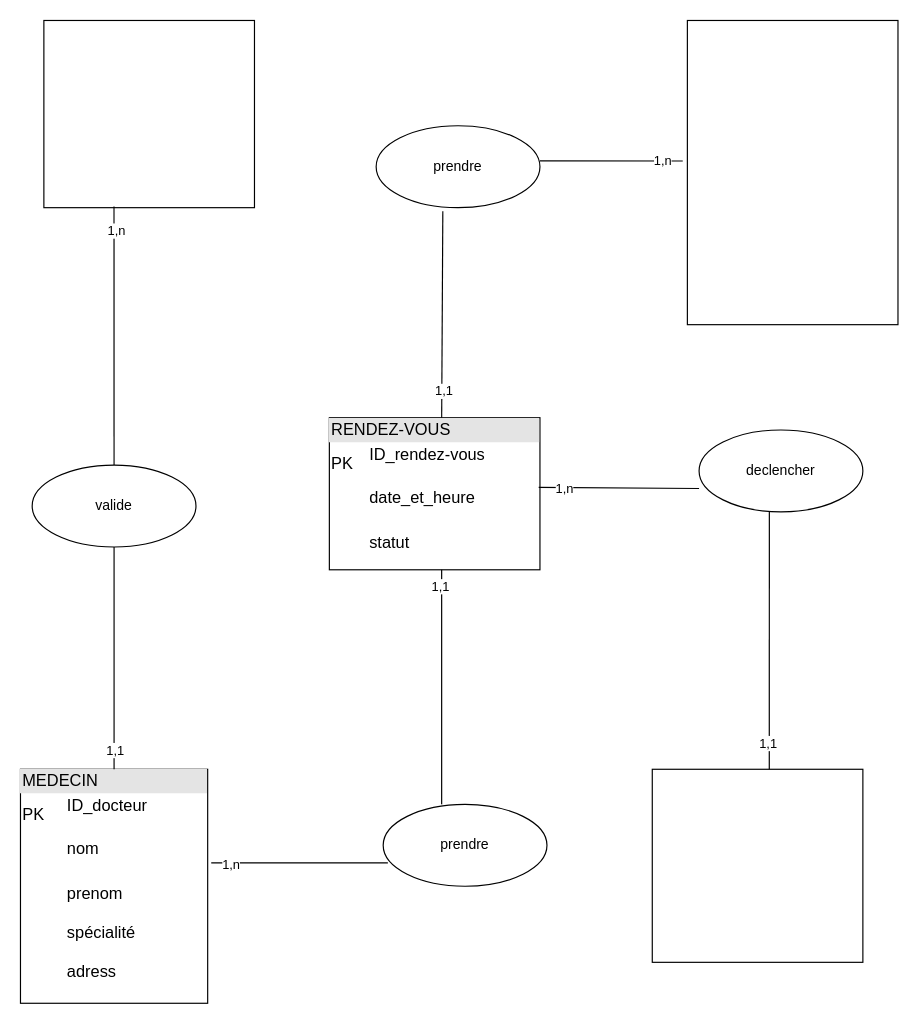
Image size: 918x1024. Some labels were removed from this diagram. The centre of each missing label's shape, as x and y in pixels:
"ADMIN PK ID FK1 nom prenom email" belongs at point 148,113.
"NOTIFICATION PK ID_notification FK1 message date_et_heure statut" belongs at point 757,865.
"PATIENT PK user-id FK1 nom prenom sexe mot de passe email adresse" belongs at point 792,172.
